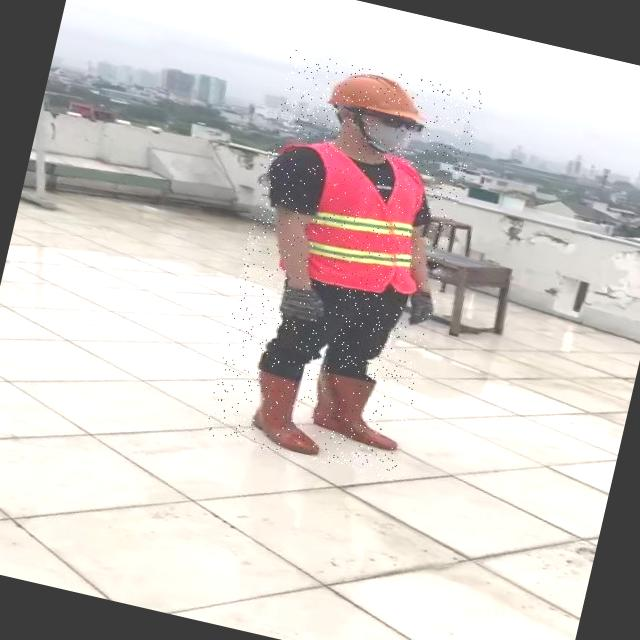boots: (239, 365, 334, 457), (306, 369, 412, 451)
helmet: (318, 61, 432, 128)
vest: (267, 136, 439, 300)
